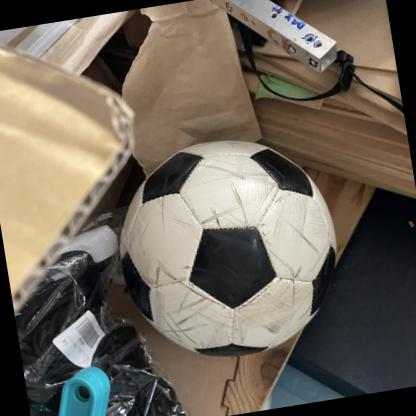ball: (101, 124, 352, 374)
